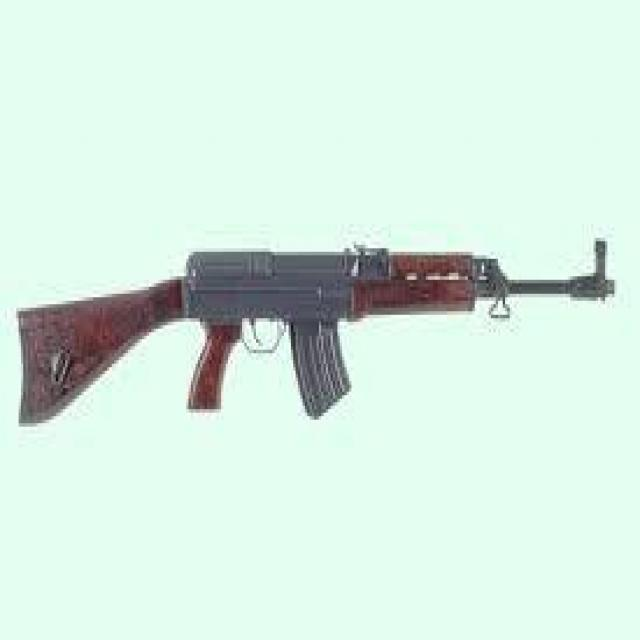weapon: (15, 232, 618, 428)
